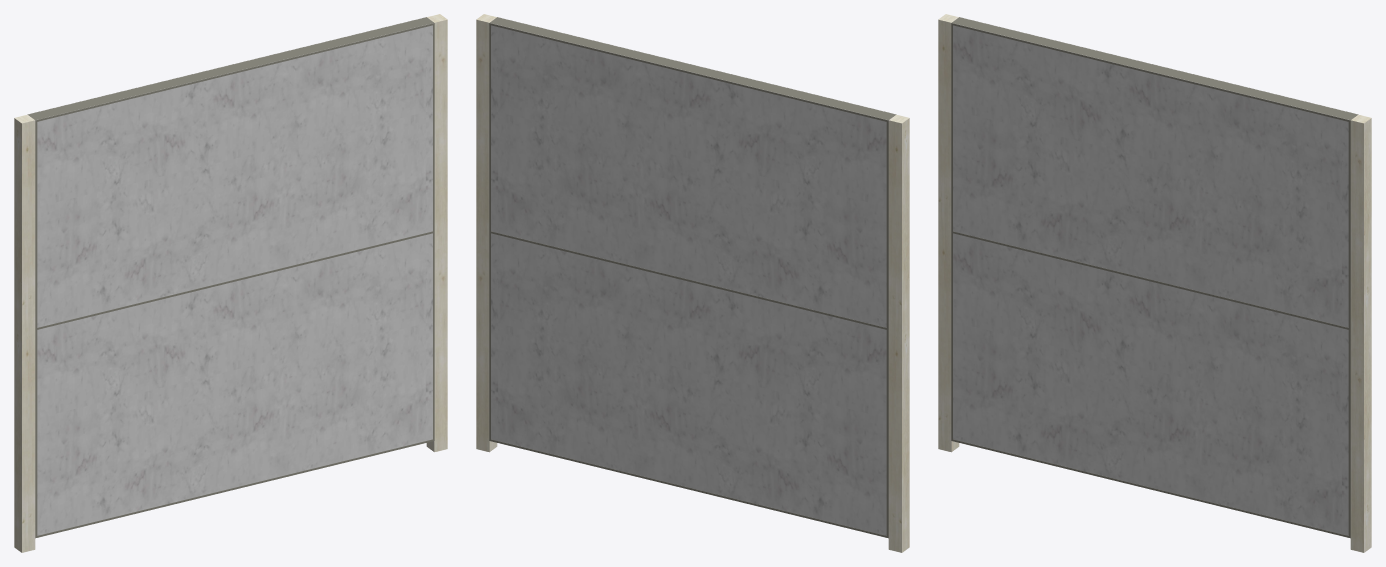
Rendered from ABF3-H1800_whitemarble.fbx.
The picture shows the model from 3 angles, left to right: view 1: azimuth 30°, elevation 25°; view 2: azimuth 150°, elevation 25°; view 3: azimuth 330°, elevation 25°; orthographic projection.
Visible parts, largest first — view 1: 1850-1920-60_whitemarble; view 2: 1850-1920-60_whitemarble; view 3: 1850-1920-60_whitemarble.
Boxes of the visible parts, bbox=[...] form: 1850-1920-60_whitemarble: bbox=[14, 14, 447, 552]; 1850-1920-60_whitemarble: bbox=[476, 14, 909, 552]; 1850-1920-60_whitemarble: bbox=[938, 14, 1371, 552].
Bounding box in the file's own units: 192 × 185 × 6.4.
Materials: 5 (4 with a texture image).
